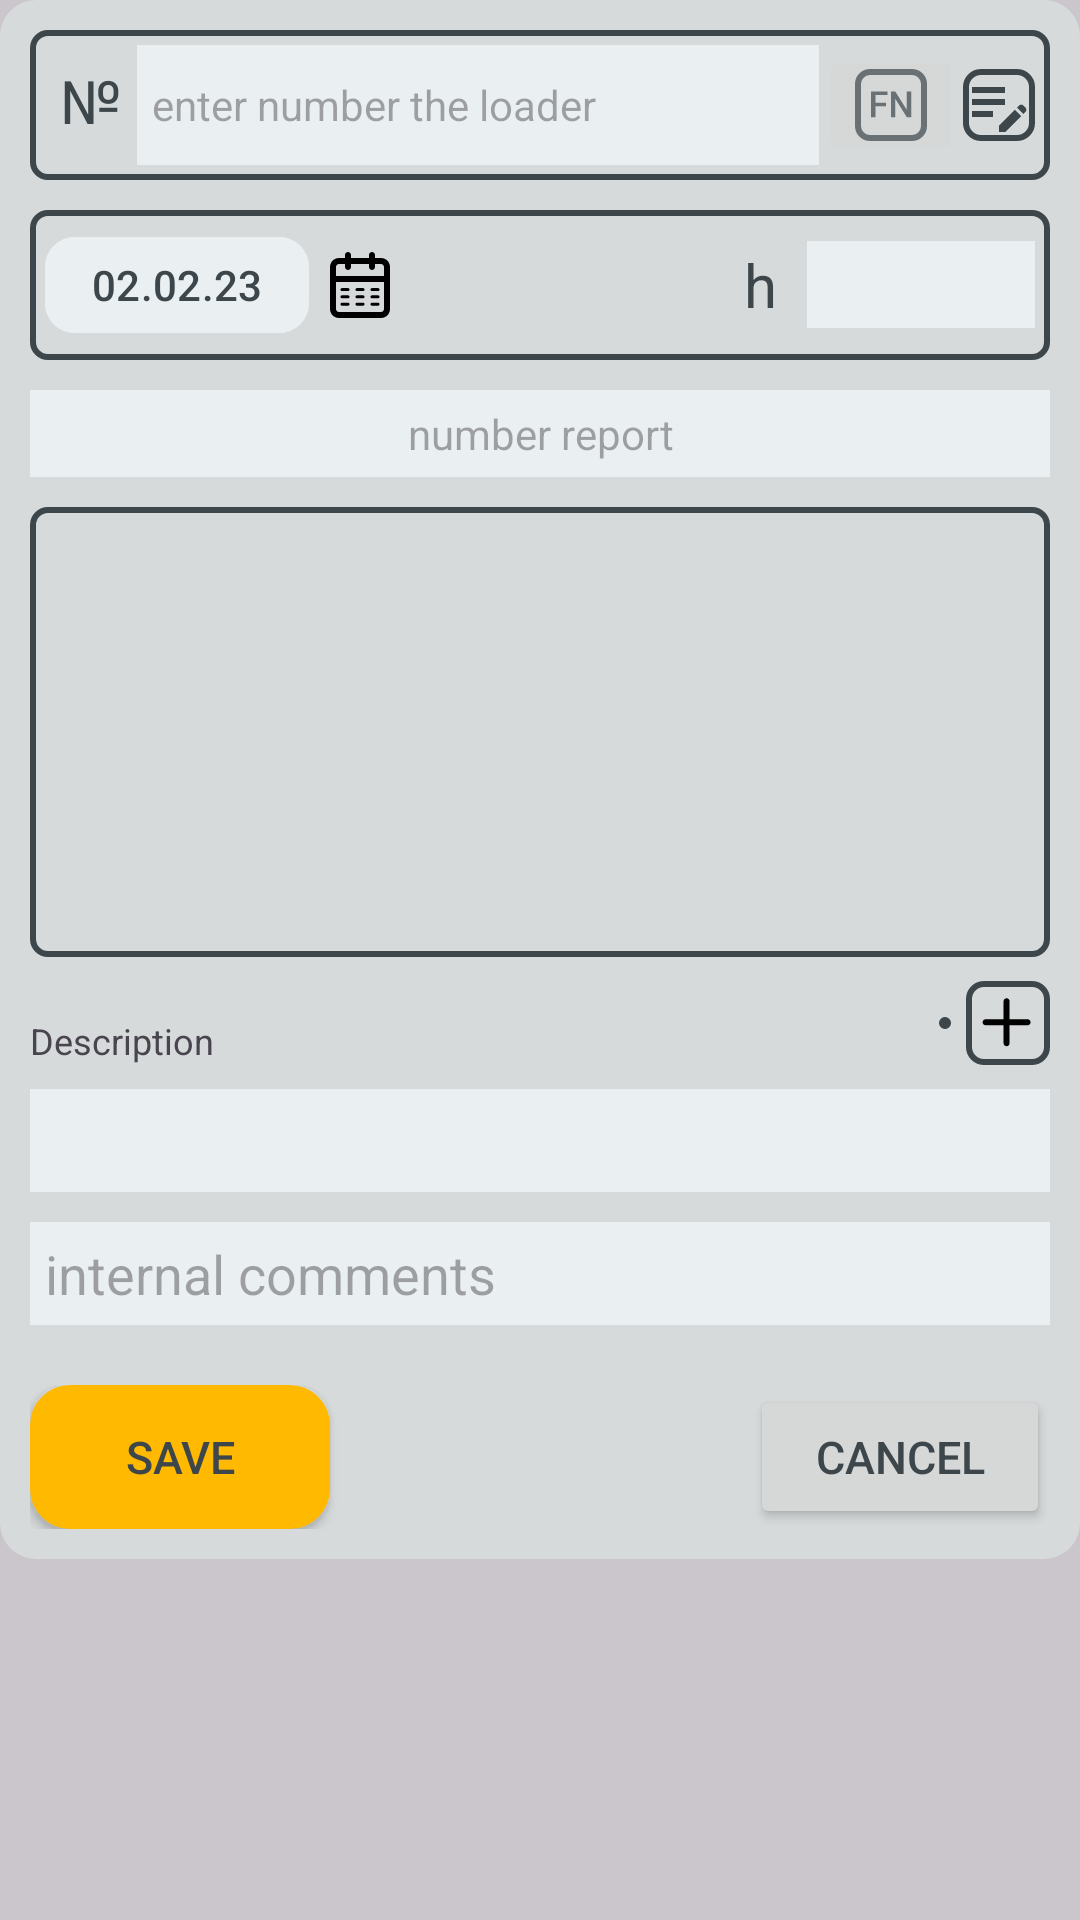

Screen size 1080px×1920px. Icon name, then its center in pixels as (x=x, y=y):
calendar: (x=360, y=285)
edit: (x=999, y=105)
plus square: (x=1008, y=1023)
